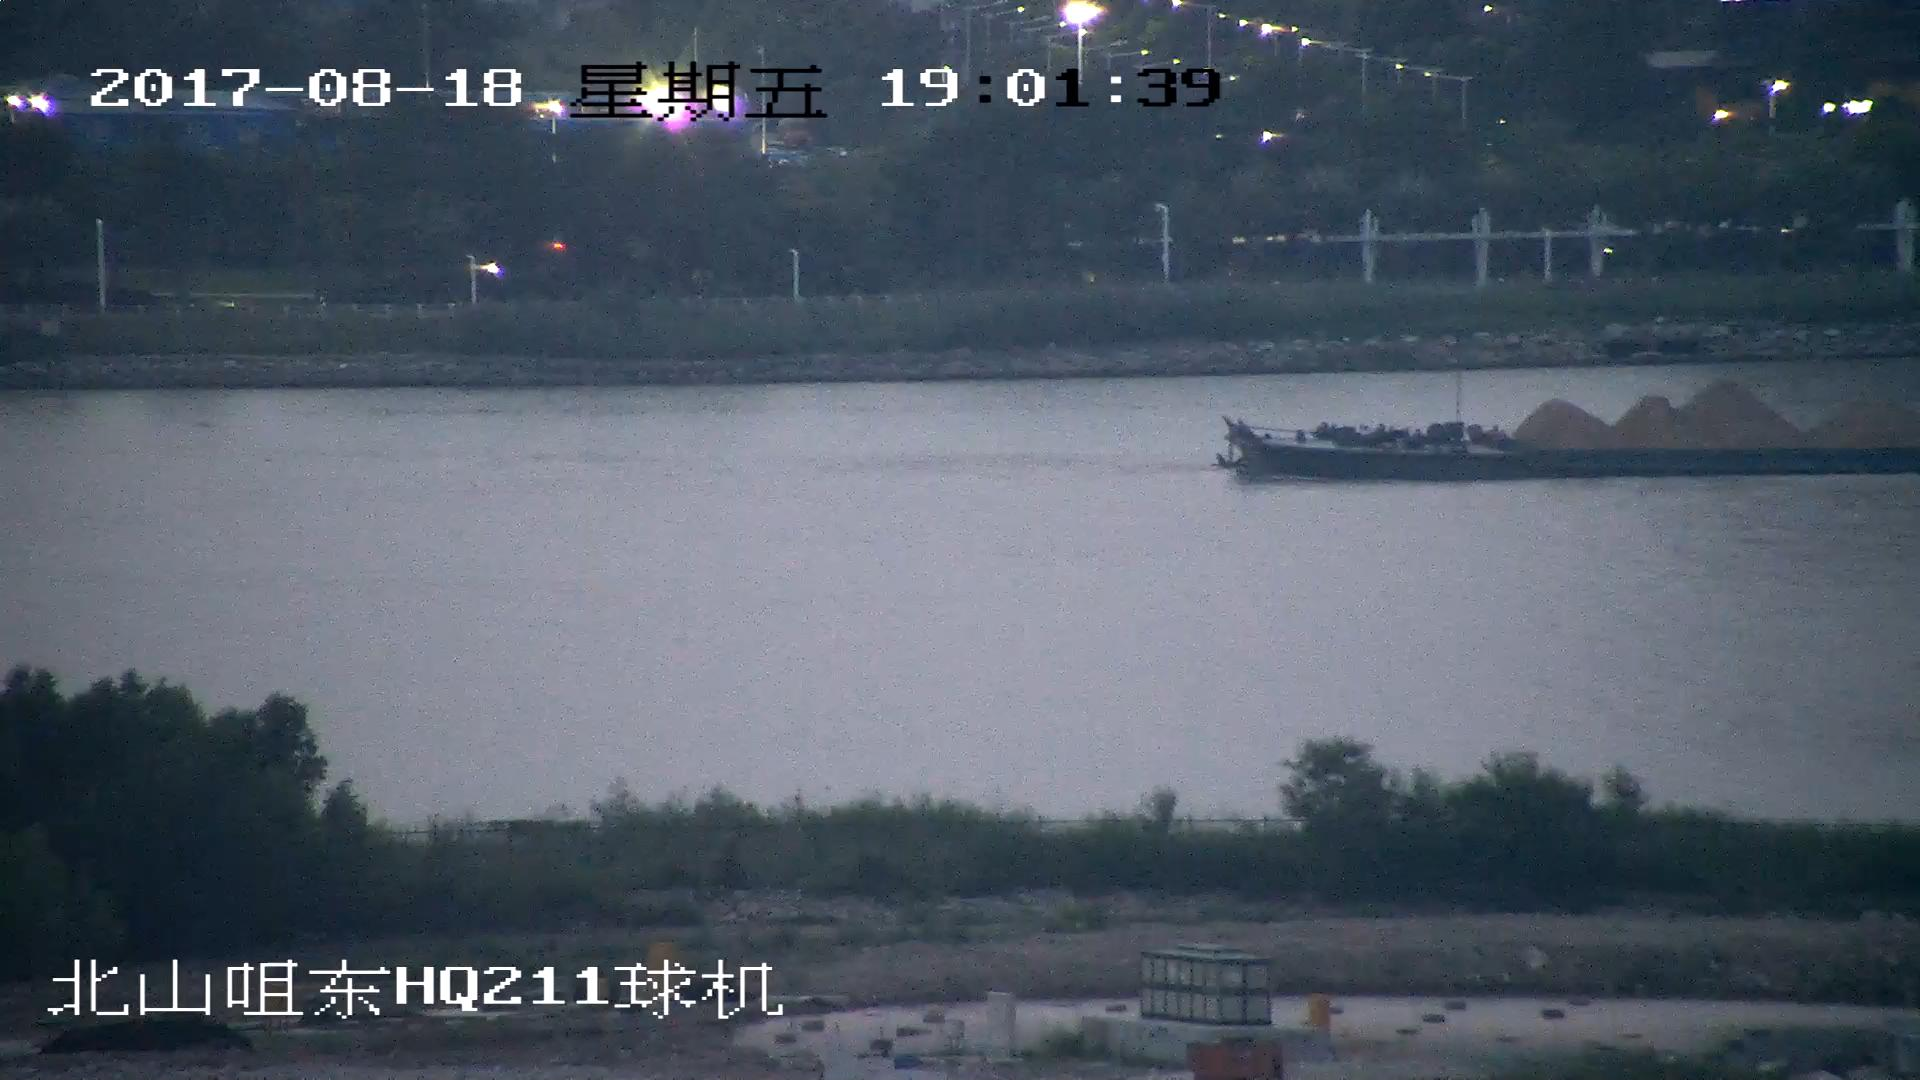ore carrier: (1216, 370, 1920, 484)
